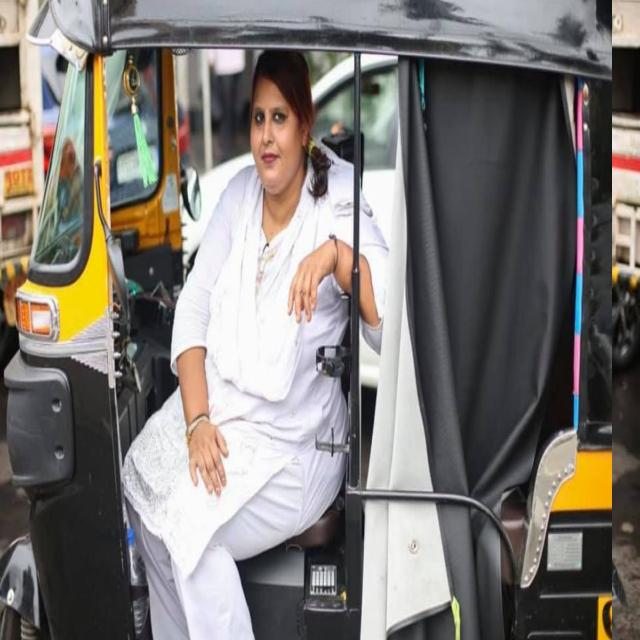autorickshaw: (0, 0, 612, 640)
